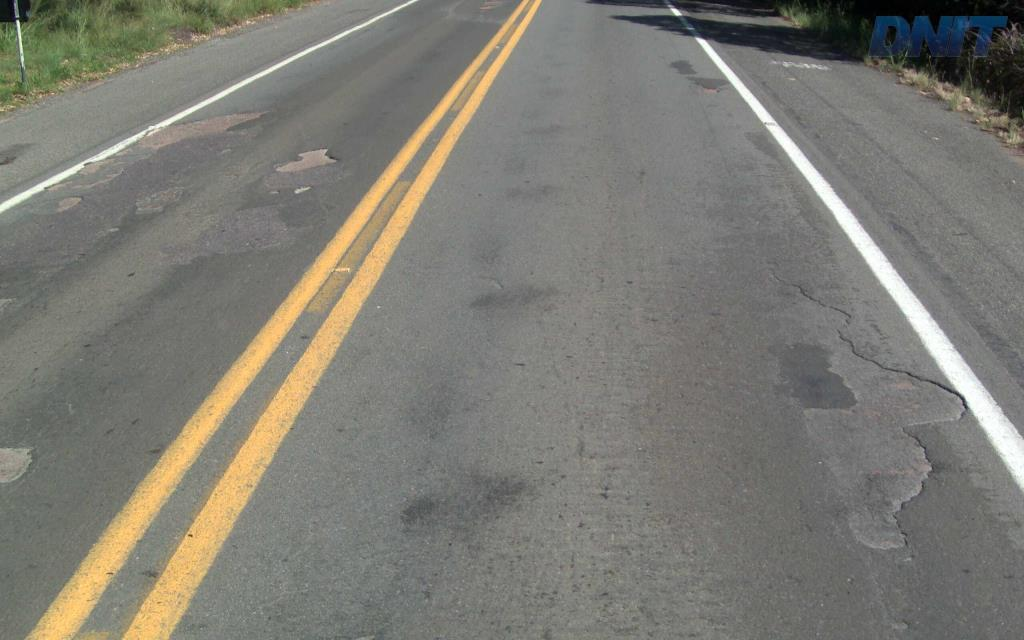pothole: (753, 250, 973, 572), (694, 84, 724, 102)
